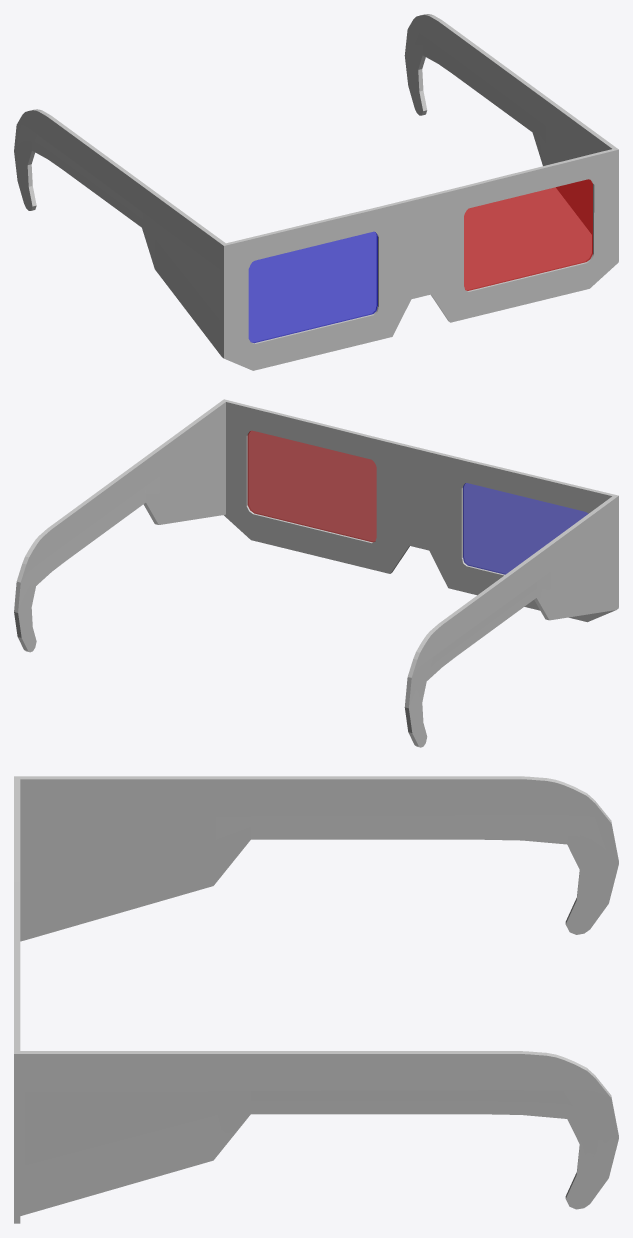
The model's file is 3DGlasses.fbx.
3 views of the same model, one above another, from view 1: azimuth 30°, elevation 25°; view 2: azimuth 150°, elevation 25°; view 3: azimuth 270°, elevation 25° (orthographic). The views are drawn at different scales.
Visible parts, largest first — view 1: polySurface11, pPlane1, pPlane2; view 2: polySurface11, pPlane2, pPlane1; view 3: polySurface11.
Part boxes in pixels (box(x1,y1,x2,y2)): polySurface11: box(14, 14, 618, 370); pPlane1: box(248, 231, 377, 342); pPlane2: box(464, 179, 592, 290); polySurface11: box(14, 399, 618, 747); pPlane2: box(247, 430, 376, 542); pPlane1: box(463, 483, 588, 574); polySurface11: box(14, 776, 618, 1223).
Size of the model in its own units: 9.84 by 3.14 by 9.06.
